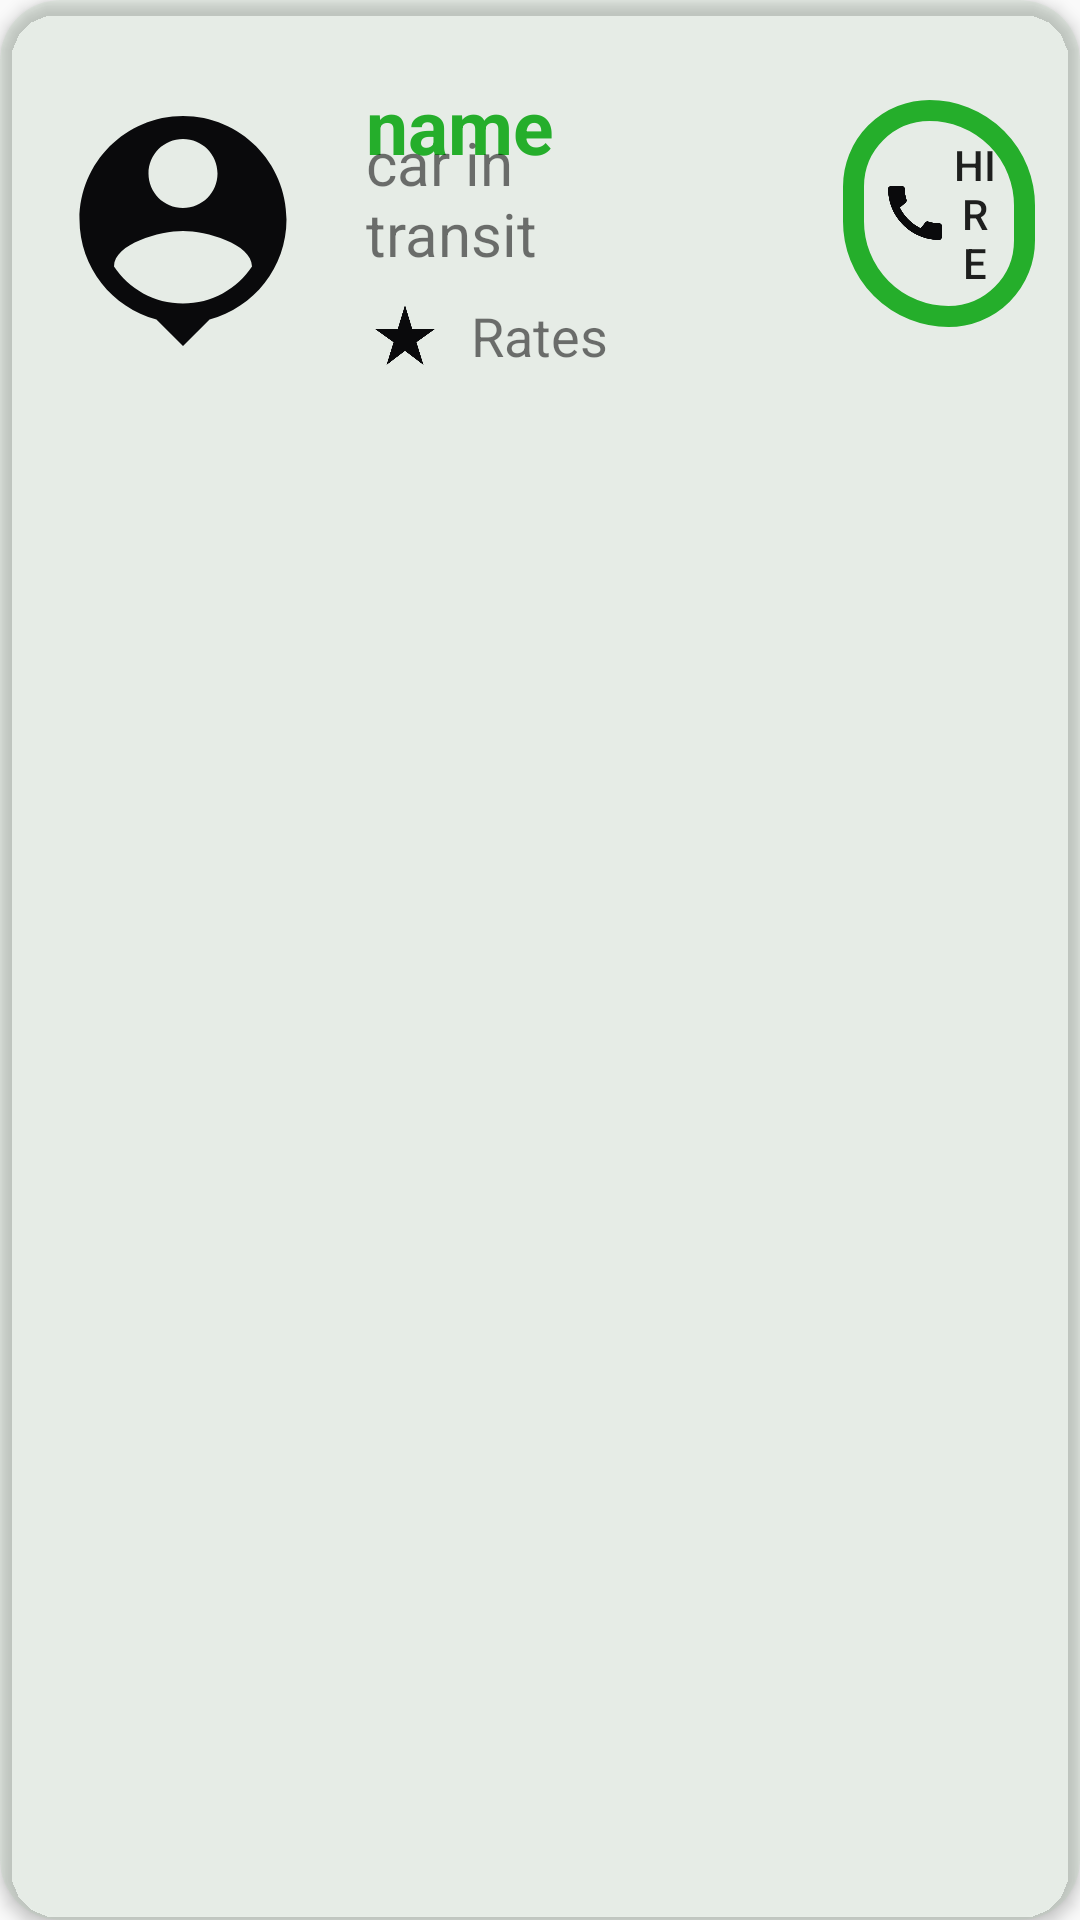

Screen size 1080×1920. Icon name, then its box in pixels as bbox=[x1, y1, x2, y2]:
person pin: bbox=[79, 116, 287, 346]
